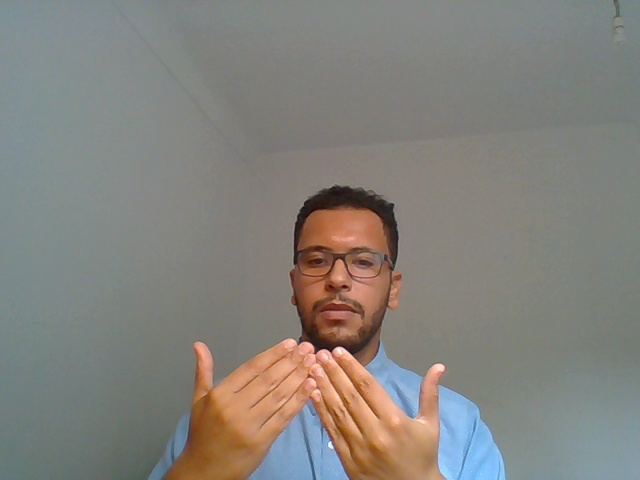thanks: (136, 331, 480, 480)
